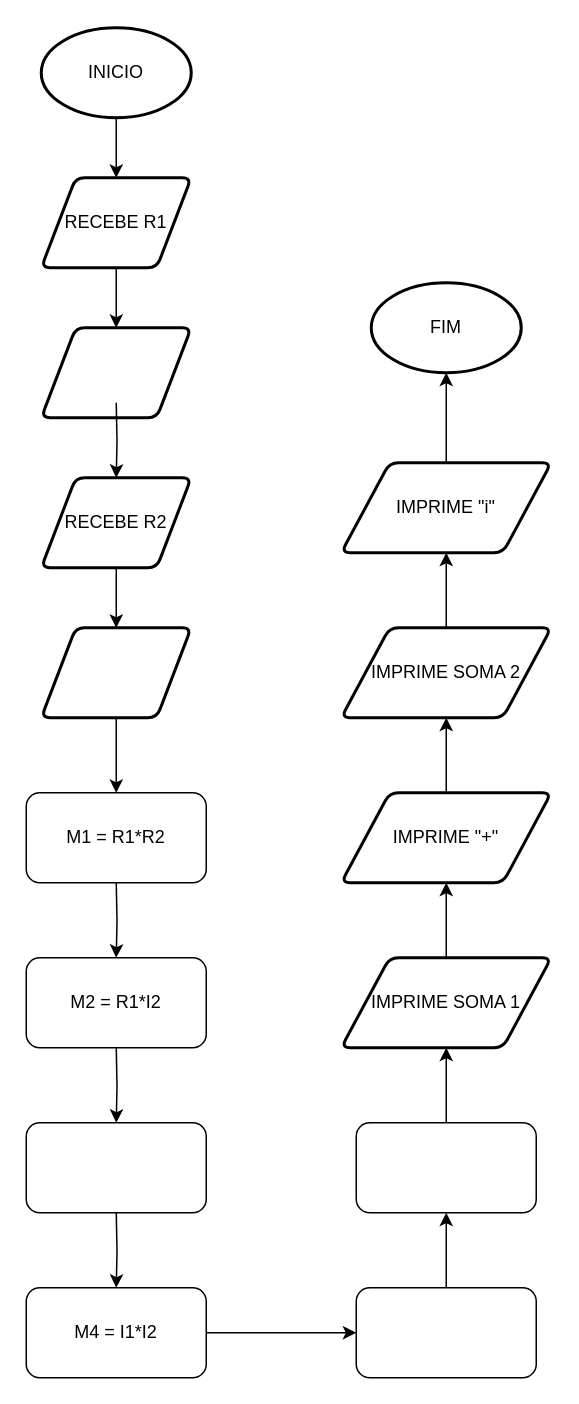
Image size: 579x1404. Some labels were removed from this diagram. Here are the shapes that lost their labels. From the top down, the box of each, then its label:
(39, 326, 192, 418): RECEBE I1
(39, 626, 192, 718): RECEBE I2
(25, 1121, 206, 1213): M3 = I1*R2
(355, 1121, 536, 1213): SOMA2 = M2+M3
(355, 1286, 536, 1378): SOMA1 = M1 - M4
